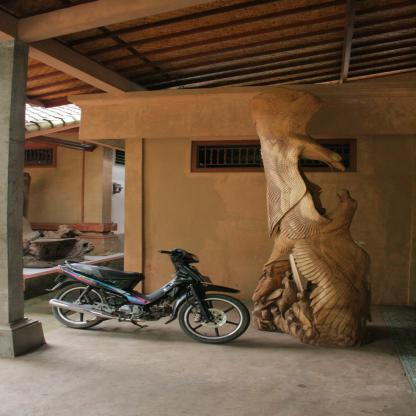motorcycle: (43, 252, 258, 346)
